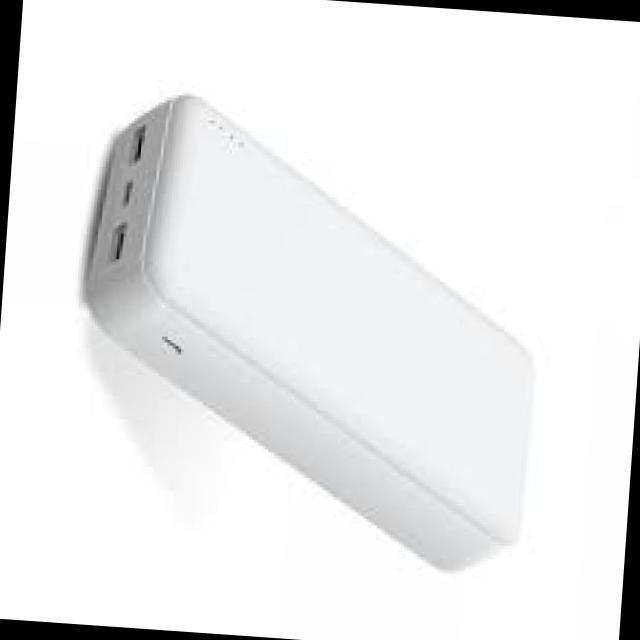power_bank: (55, 88, 554, 578)
